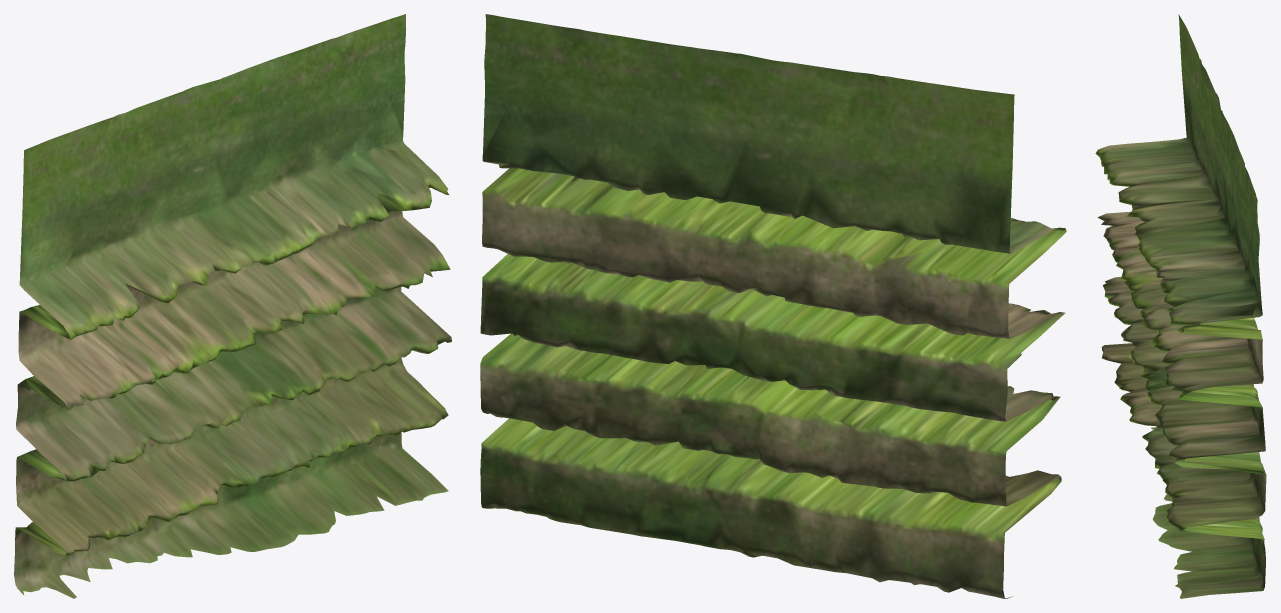
Rendered from map_260_60.obj.
The picture shows the model from 3 angles, left to right: view 1: azimuth 30°, elevation 25°; view 2: azimuth 150°, elevation 25°; view 3: azimuth 270°, elevation 25°; orthographic projection. The views are drawn at different scales.
Parts seen in each view (by area): view 1: map_260_60.obj; view 2: map_260_60.obj; view 3: map_260_60.obj.
Part boxes in pixels (box(x1,y1,x2,y2)): map_260_60.obj: box(14, 14, 451, 598); map_260_60.obj: box(480, 14, 1066, 598); map_260_60.obj: box(1095, 14, 1266, 598).
Bounding box in the file's own units: 10 × 10 × 3.89.
Materials: 1 (1 with a texture image).
